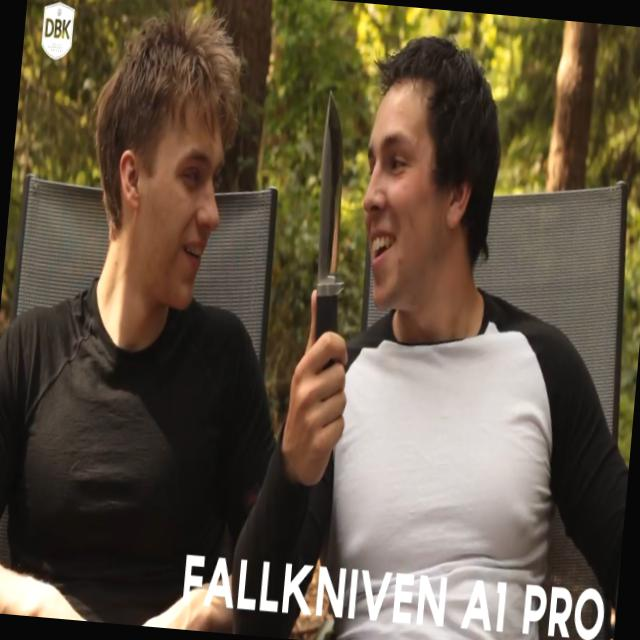knife: (288, 71, 376, 437)
